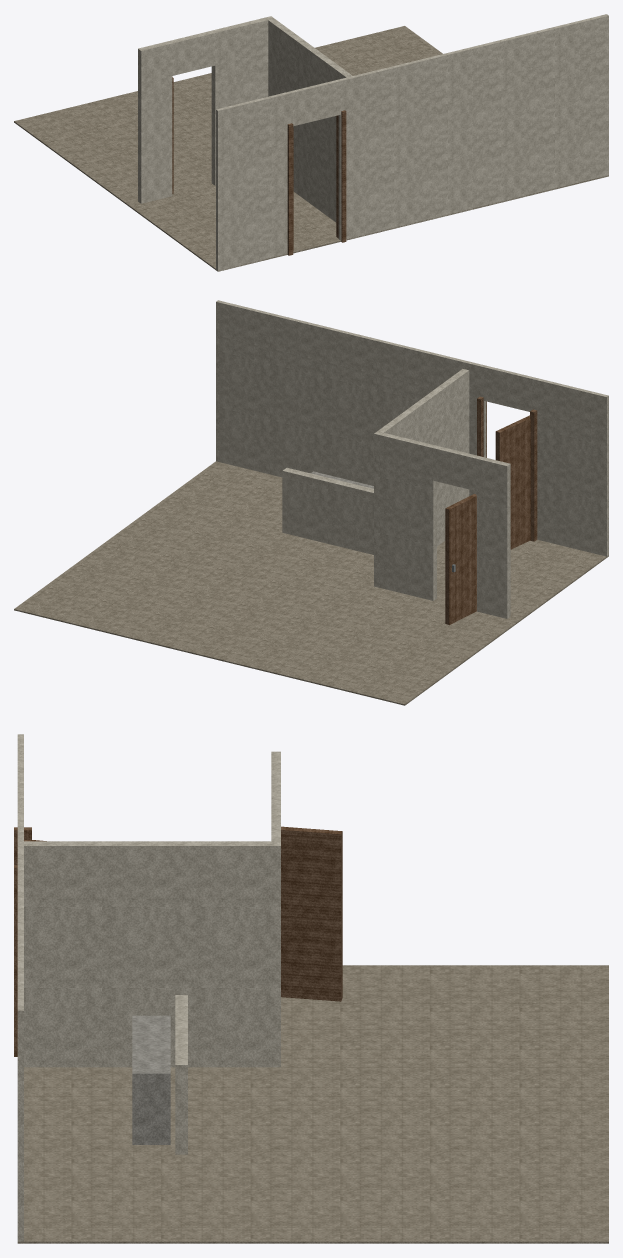
The model's file is PZ_Midrise_UnitLayout_Studio_A.glb.
3 views of the same model, one above another, from view 1: azimuth 30°, elevation 25°; view 2: azimuth 150°, elevation 25°; view 3: azimuth 270°, elevation 25° (orthographic). The views are drawn at different scales.
Parts seen in each view (by area): view 1: Studio_A_CorridorEntryWall_TRUE_0p90m_OPENING, Studio_A_FloorFinish, Studio_A_BathroomDivider_EW, Studio_A_BathroomDivider_NS, Studio_A_EntryDoorCasingsR, Studio_A_EntryDoorCasings; view 2: Studio_A_FloorFinish, Studio_A_CorridorEntryWall_TRUE_0p90m_OPENING, Studio_A_BathroomDivider_EW, Studio_A_KitchenHalfWall, Studio_A_BathroomDivider_NS, Studio_A_Bathroom_Leaf, Studio_A_ApartmentEntry_Leaf, Studio_A_EntryDoorCasings; view 3: Studio_A_FloorFinish, Studio_A_BathroomDivider_NS, Studio_A_Bathroom_Leaf, Studio_A_KitchenCounterBlock, Studio_A_CorridorEntryWall_TRUE_0p90m_OPENING, Studio_A_KitchenHalfWall, Studio_A_BathroomDivider_EW, Studio_A_EntryDoorCasingsR.
Part boxes in pixels (x1,y1,x2,y2): Studio_A_CorridorEntryWall_TRUE_0p90m_OPENING: (216, 14, 608, 271); Studio_A_FloorFinish: (14, 26, 608, 271); Studio_A_BathroomDivider_EW: (138, 16, 273, 203); Studio_A_BathroomDivider_NS: (267, 16, 352, 222); Studio_A_EntryDoorCasingsR: (336, 110, 346, 242); Studio_A_EntryDoorCasings: (287, 123, 293, 255); Studio_A_FloorFinish: (14, 461, 608, 705); Studio_A_CorridorEntryWall_TRUE_0p90m_OPENING: (216, 300, 608, 556); Studio_A_BathroomDivider_EW: (374, 433, 510, 618); Studio_A_KitchenHalfWall: (282, 467, 373, 554); Studio_A_BathroomDivider_NS: (374, 369, 469, 587); Studio_A_Bathroom_Leaf: (445, 494, 476, 625); Studio_A_ApartmentEntry_Leaf: (495, 415, 530, 549); Studio_A_EntryDoorCasings: (530, 409, 537, 541); Studio_A_FloorFinish: (17, 965, 608, 1243); Studio_A_BathroomDivider_NS: (24, 841, 280, 1067); Studio_A_Bathroom_Leaf: (281, 826, 342, 1001); Studio_A_KitchenCounterBlock: (132, 1015, 170, 1144); Studio_A_CorridorEntryWall_TRUE_0p90m_OPENING: (17, 734, 23, 1241); Studio_A_KitchenHalfWall: (175, 995, 187, 1154); Studio_A_BathroomDivider_EW: (271, 751, 280, 843); Studio_A_EntryDoorCasingsR: (14, 865, 17, 1056).
Size of the model in its own units: 7.3 by 2.87 by 6.64.
Materials: 5 (5 with a texture image).
